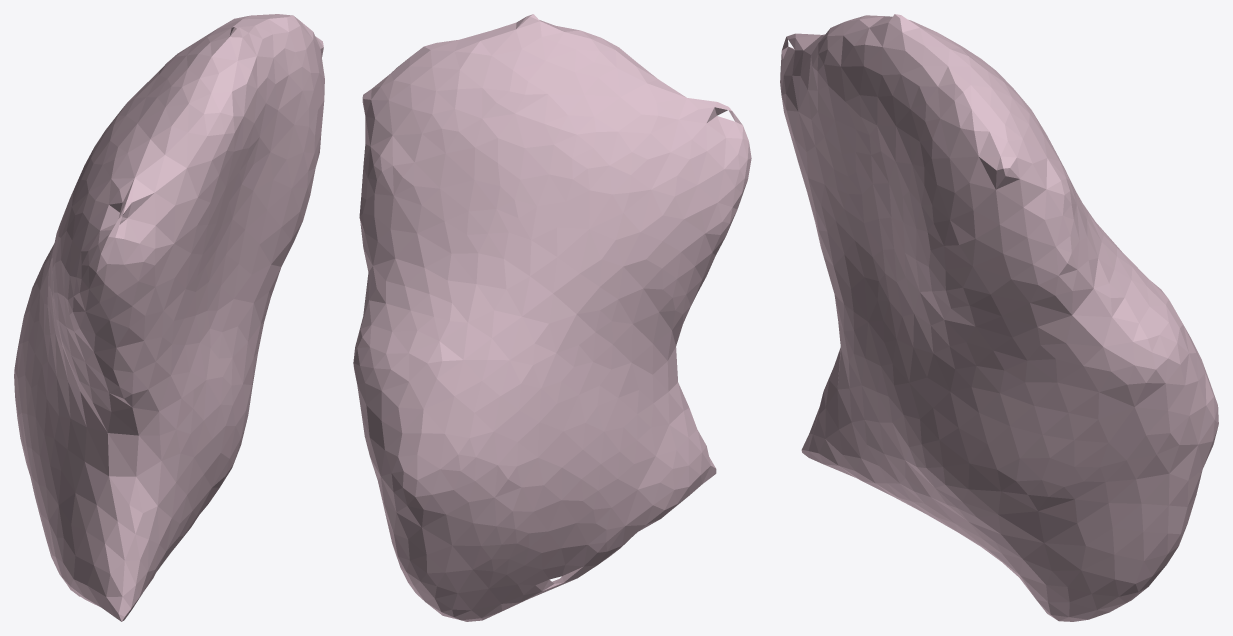
File: Right_Accumbens.glb
3 renders of one model, left to right at view 1: azimuth 30°, elevation 25°; view 2: azimuth 150°, elevation 25°; view 3: azimuth 270°, elevation 25°, orthographic. The views are drawn at different scales.
Parts seen in each view (by area): view 1: world; view 2: world; view 3: world.
Part boxes in pixels (x1,y1,x2,y2): world: (14,14,324,621); world: (353,14,751,621); world: (780,14,1218,621).
Bounding box in the file's own units: 10.94 × 19.13 × 12.33.
